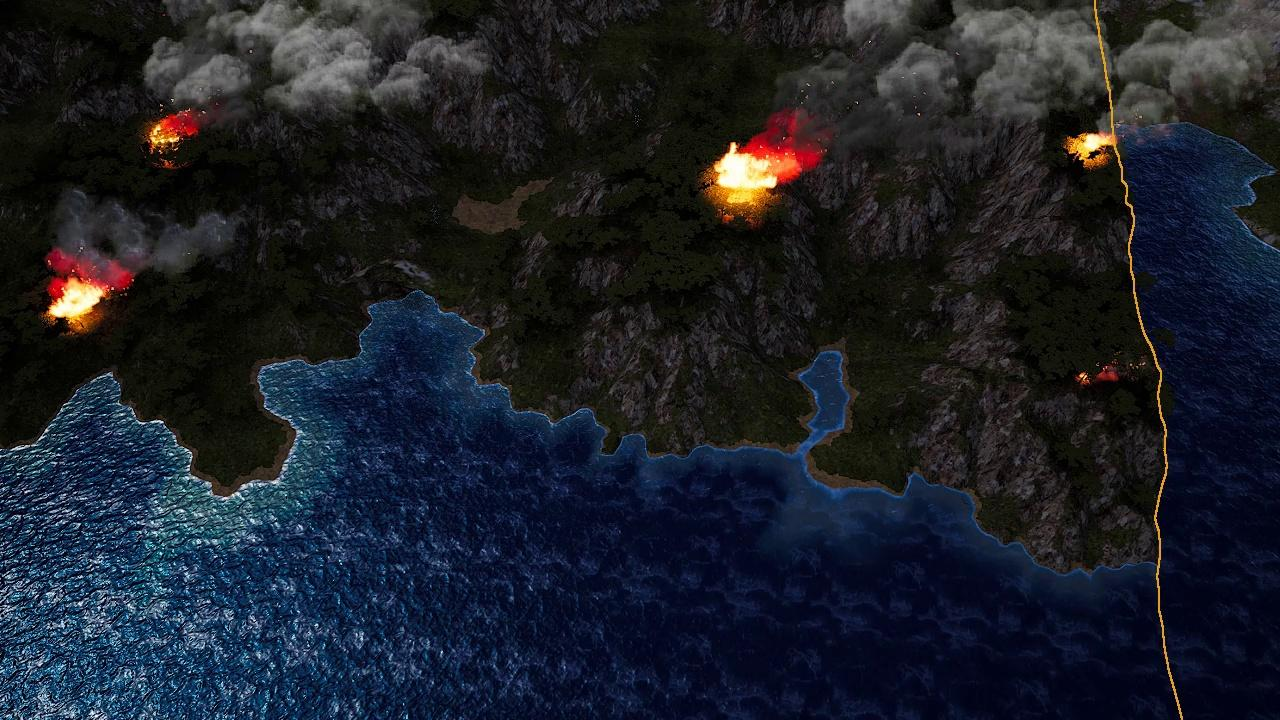fire: (706, 140, 804, 206), (44, 268, 117, 327), (144, 111, 198, 154), (1068, 133, 1114, 160), (1072, 363, 1116, 385)
smoke: (753, 0, 1107, 156), (144, 0, 505, 119), (1103, 2, 1275, 135), (48, 189, 242, 281)
